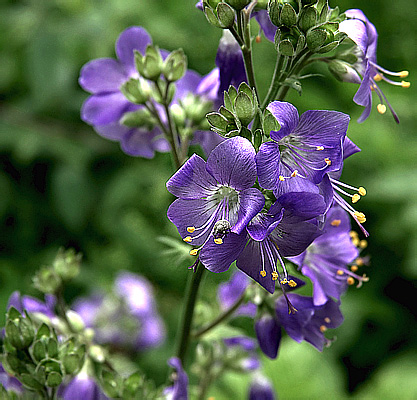dolgonosik: (212, 218, 232, 241)
